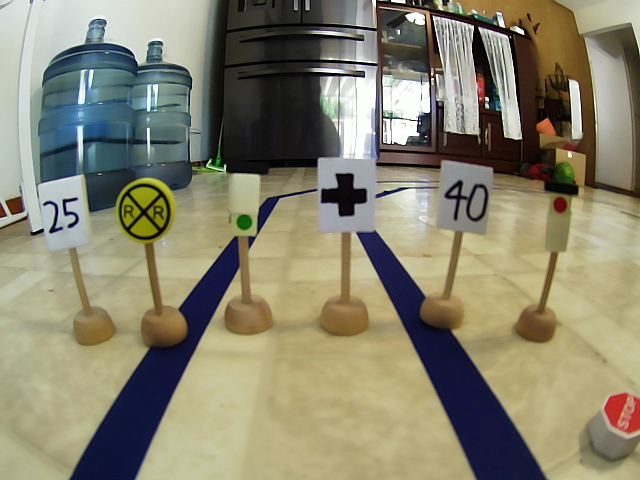25: (36, 175, 97, 250)
40: (439, 160, 494, 237)
green: (225, 163, 271, 240)
plus: (317, 159, 376, 235)
rail: (111, 179, 177, 240)
red: (542, 179, 577, 259)
